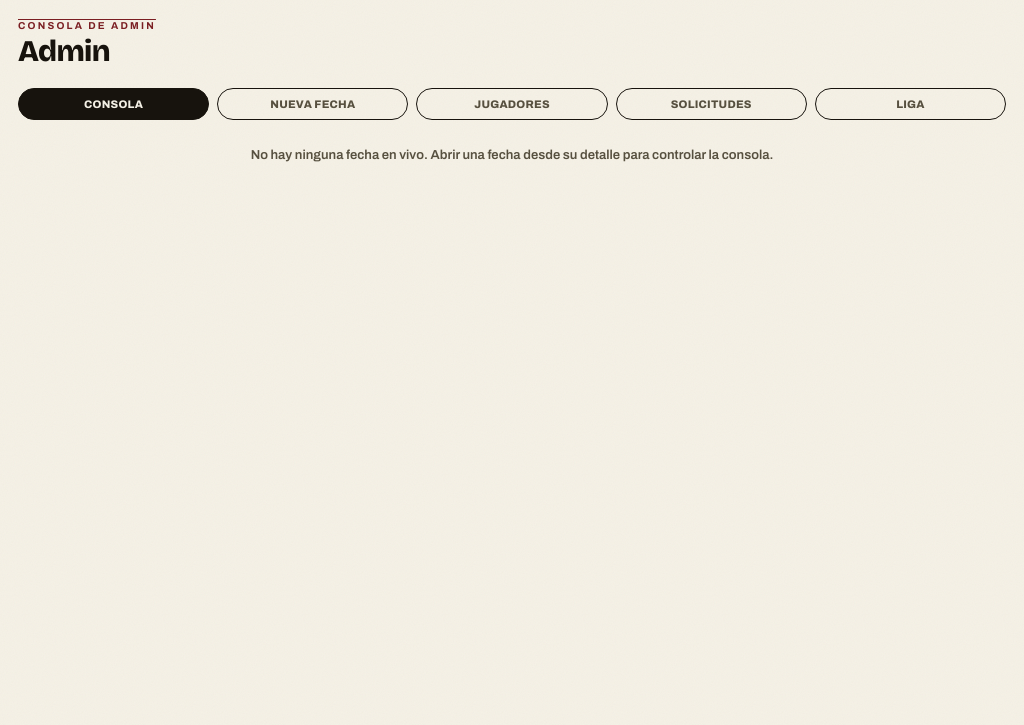
Test case: Admin · Nueva fecha (slice 13) › "Guardar ajustes" persists the current money values to localStorage as defaults
Click the tab "Nueva fecha" at (313, 104), box [217, 88, 408, 120]
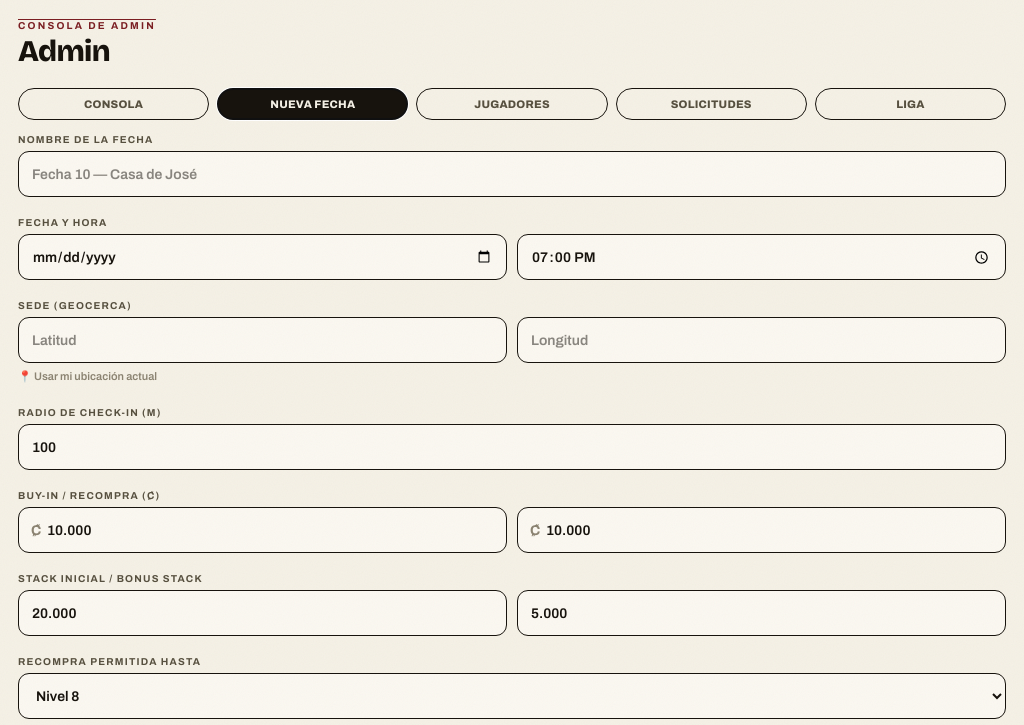
Replace the text in the field labelled "Buy-in / Recompra (₡)" with "30000" at (262, 530), box [18, 507, 507, 553]
(page scrolled)
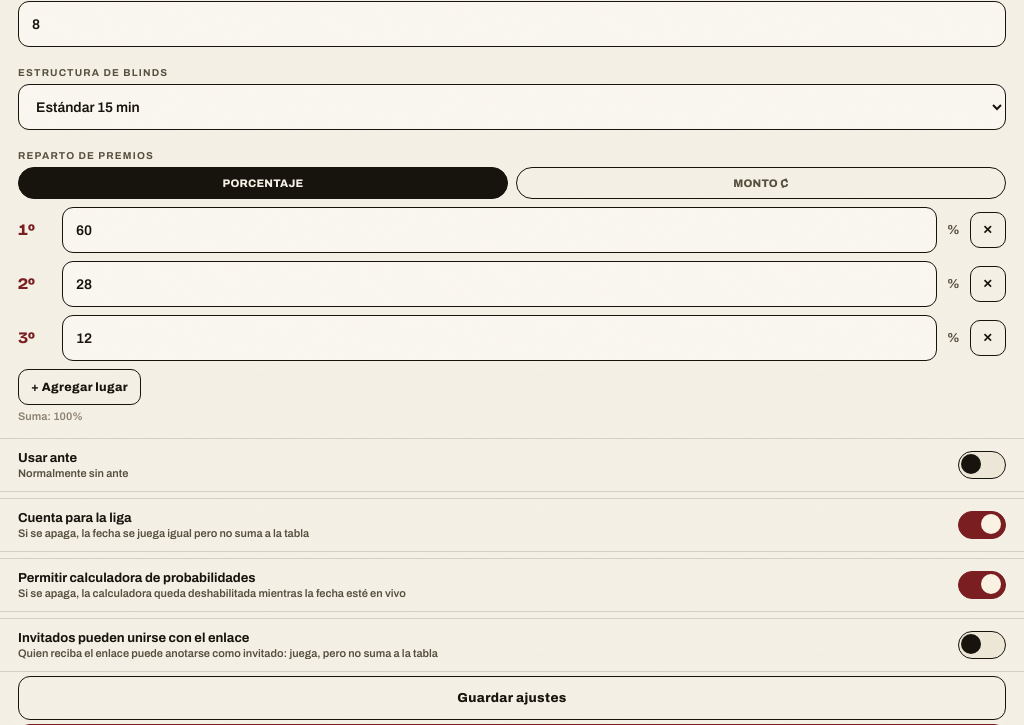
Click the button "Guardar ajustes" at (512, 698), box [18, 676, 1006, 720]
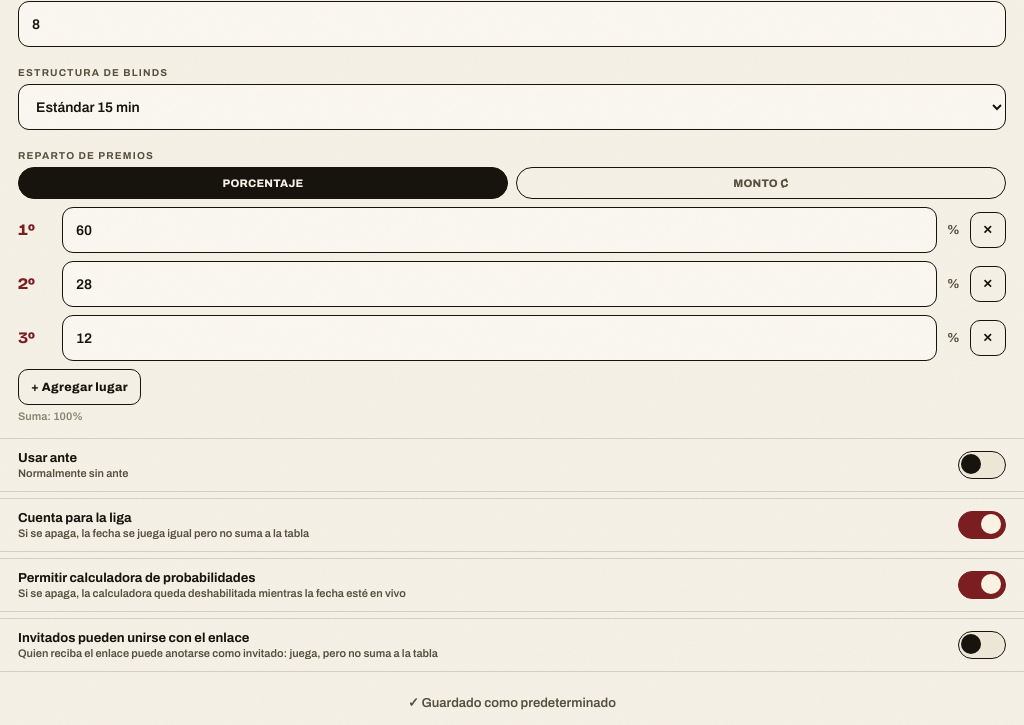
Check: the text "✓ Guardado como predeterminado" is shown, box [408, 696, 616, 710]
